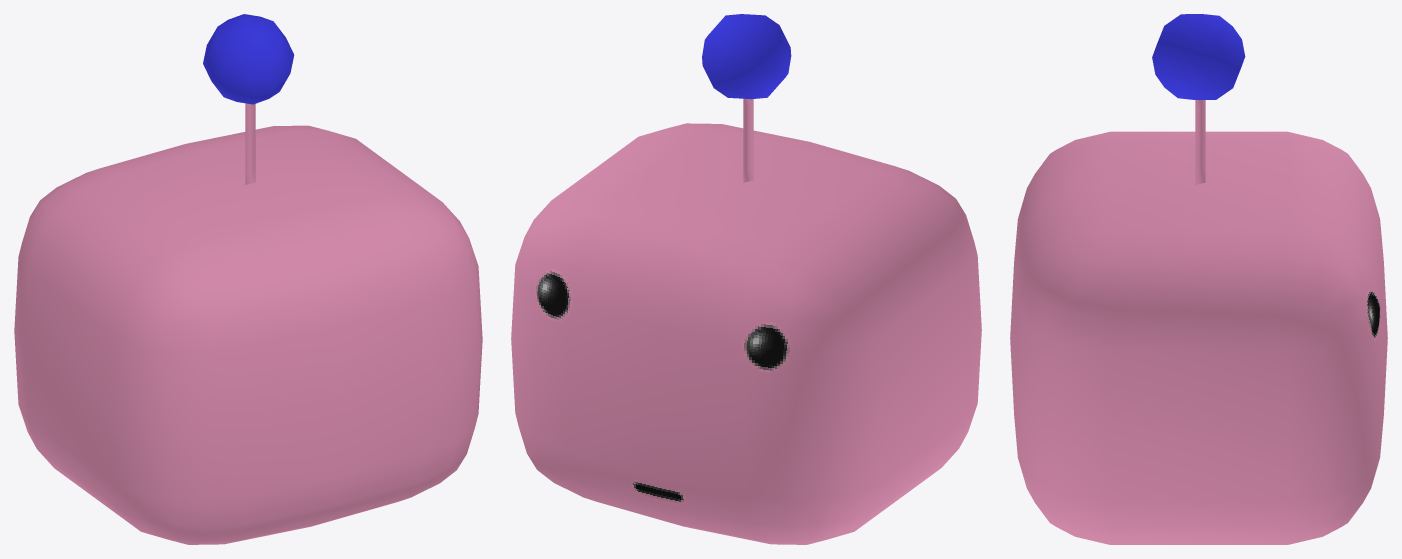
The model's file is ps2_save-icons_uchuujinttenani-simpleseries.glb.
3 renders of one model, left to right at view 1: azimuth 30°, elevation 25°; view 2: azimuth 150°, elevation 25°; view 3: azimuth 270°, elevation 25°, orthographic.
Visible parts, largest first — view 1: icon00.ico; view 2: icon00.ico; view 3: icon00.ico.
Boxes of the visible parts, x1,y1,x2,y2 form: icon00.ico: (14, 14, 482, 544); icon00.ico: (511, 14, 981, 544); icon00.ico: (1010, 14, 1387, 544).
Bounding box in the file's own units: 3.85 × 4.8 × 3.43.
1 material, 1 textured.
